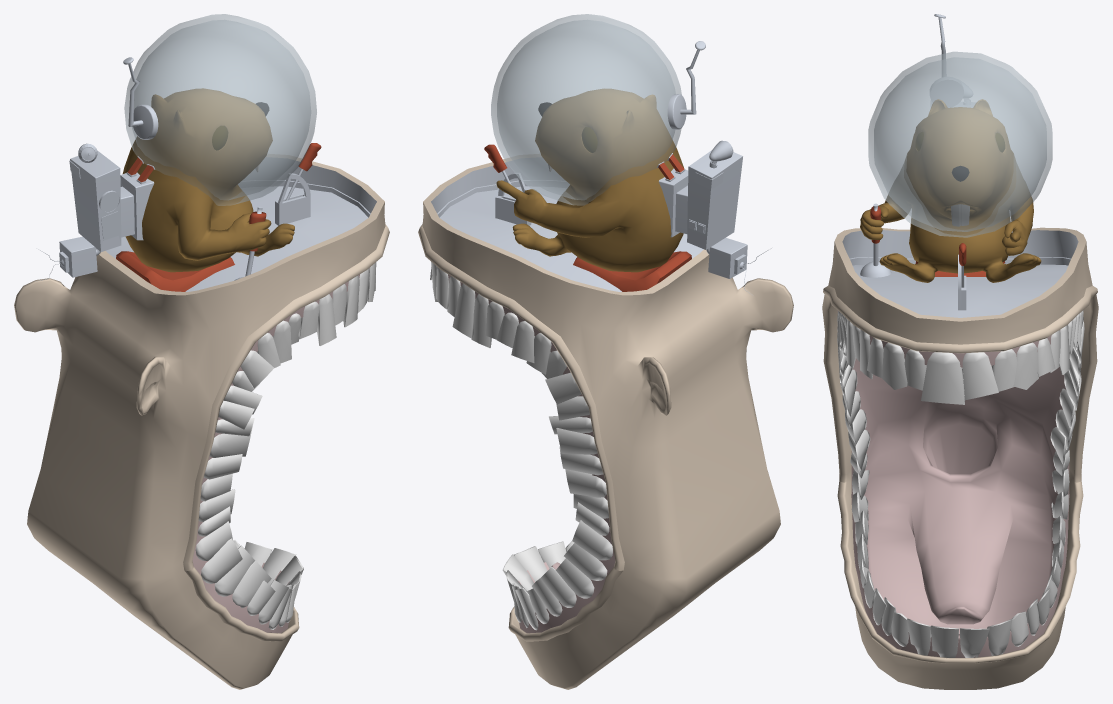
The model's file is GophOverLap.fbx.
3 views of the same model, side by side, from view 1: azimuth 30°, elevation 25°; view 2: azimuth 150°, elevation 25°; view 3: azimuth 270°, elevation 25° (orthographic). The views are drawn at different scales.
Visible parts, largest first — view 1: Heed, Orb, Goph, Backpack, Chair, Box, SwitchBase, Tooth24, Tooth18, Tooth98, Tooth19, Tooth9 (+11 smaller); view 2: Heed, Orb, Goph, Backpack, Chair, Box, Tooth28, Tooth45, Tooth102, Tooth39, Tooth98, Tooth49 (+10 smaller); view 3: Heed, Orb, Goph, Tooth5, Tooth6, Tooth7, Tooth46, Tooth48, Tooth29, Tooth30, Tooth3, Tooth33 (+9 smaller).
Boxes of the visible parts, box(x1,y1,x2,y2) form: Heed: box(14, 154, 389, 689); Orb: box(123, 14, 316, 205); Goph: box(122, 88, 294, 272); Backpack: box(70, 150, 154, 251); Chair: box(116, 251, 234, 291); Box: box(59, 236, 97, 277); SwitchBase: box(275, 173, 310, 225); Tooth24: box(201, 538, 242, 583); Tooth18: box(232, 560, 271, 608); Tooth98: box(209, 427, 252, 457); Tooth19: box(214, 545, 254, 596); Tooth9: box(317, 294, 336, 345); Heed: box(418, 154, 793, 689); Orb: box(491, 14, 705, 205); Goph: box(496, 88, 684, 272); Backpack: box(658, 150, 742, 249); Chair: box(573, 251, 691, 291); Box: box(708, 237, 747, 278); Tooth28: box(572, 520, 612, 560); Tooth45: box(452, 283, 475, 338); Tooth102: box(565, 469, 606, 497); Tooth39: box(564, 543, 607, 580); Tooth98: box(556, 427, 597, 454); Tooth49: box(555, 558, 594, 598); Heed: box(822, 227, 1098, 689); Orb: box(868, 14, 1052, 237); Goph: box(860, 99, 1041, 282); Tooth5: box(921, 352, 964, 404); Tooth6: box(962, 352, 998, 400); Tooth7: box(882, 342, 907, 389); Tooth46: box(1014, 342, 1038, 389); Tooth48: box(991, 349, 1017, 391); Tooth29: box(930, 625, 959, 657); Tooth30: box(960, 628, 989, 657); Tooth3: box(904, 349, 926, 390); Tooth33: box(987, 619, 1012, 655).
Size of the model in its own units: 8.37 by 15.01 by 6.1.
